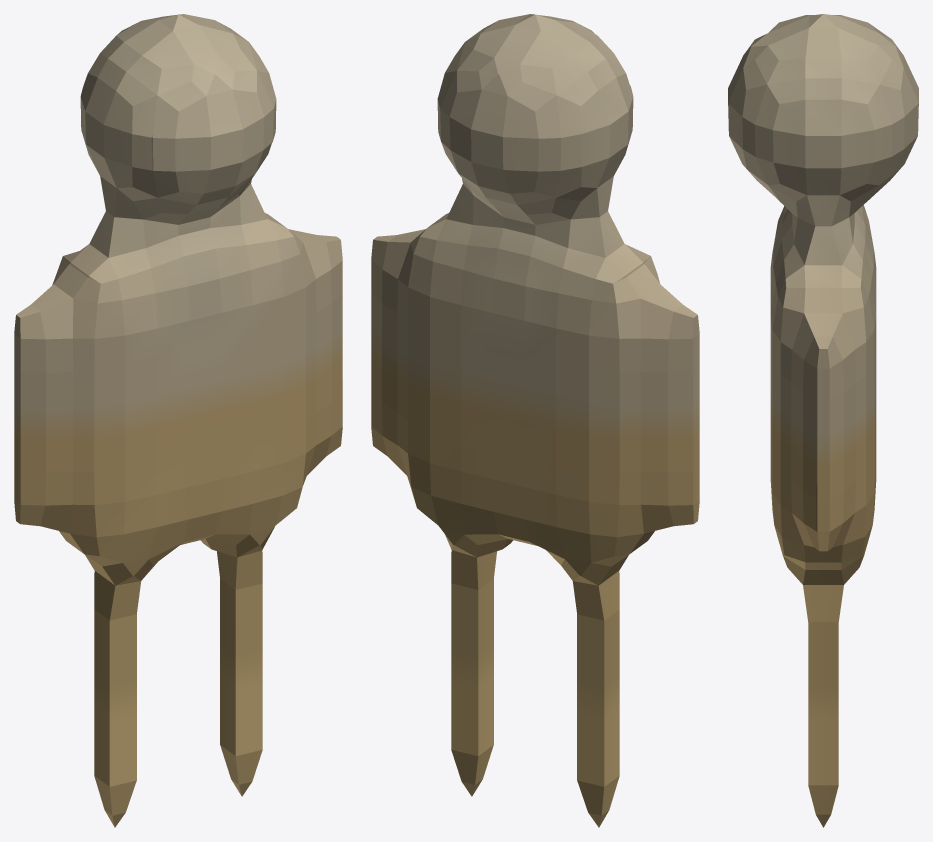
The model's file is vampire.glb.
The picture shows the model from 3 angles, left to right: view 1: azimuth 30°, elevation 25°; view 2: azimuth 150°, elevation 25°; view 3: azimuth 270°, elevation 25°; orthographic projection.
Visible parts, largest first — view 1: geometry_0; view 2: geometry_0; view 3: geometry_0.
Part boxes in pixels (left/top/right/bottom): geometry_0: left=14, top=14, right=342, bottom=827; geometry_0: left=371, top=14, right=699, bottom=827; geometry_0: left=728, top=14, right=918, bottom=827.
Bounding box in the file's own units: 0.4226 × 1 × 0.2207.
Materials: 1 (1 with a texture image).
